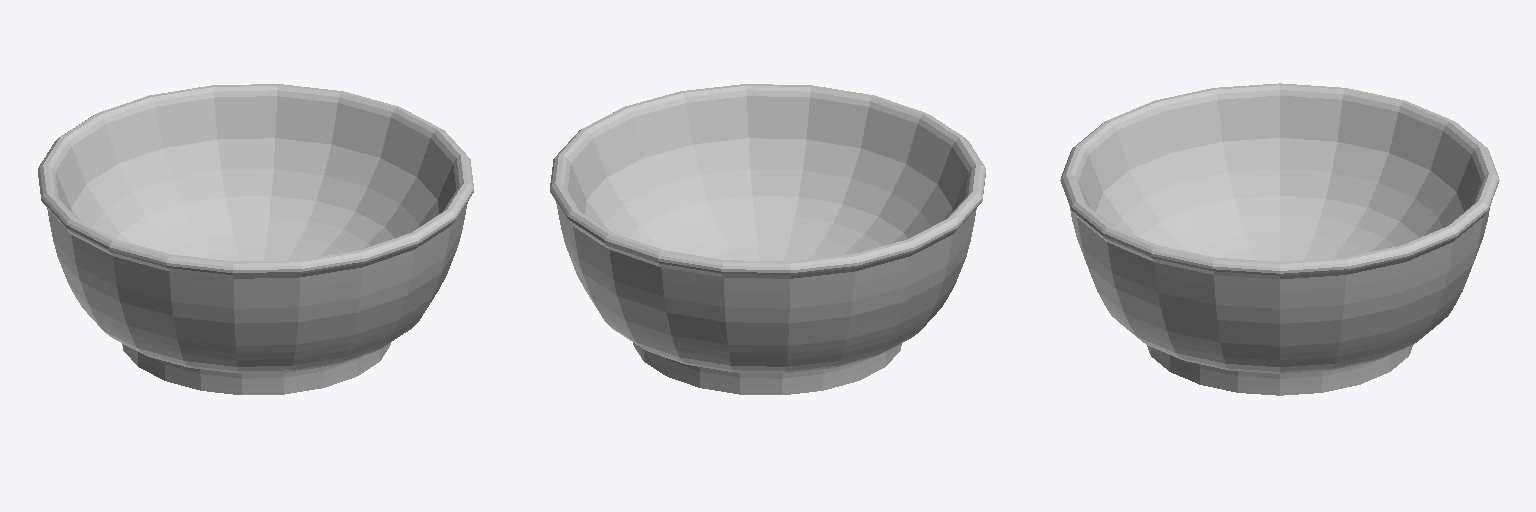
The model's file is bowltest.obj.
3 renders of one model, left to right at view 1: azimuth 30°, elevation 25°; view 2: azimuth 150°, elevation 25°; view 3: azimuth 270°, elevation 25°, orthographic.
Visible parts, largest first — view 1: pCylinder1; view 2: pCylinder1; view 3: pCylinder1.
Part boxes in pixels (left/top/right/bottom): pCylinder1: left=38, top=84, right=473, bottom=394; pCylinder1: left=550, top=84, right=985, bottom=394; pCylinder1: left=1060, top=83, right=1499, bottom=395.
Bounding box in the file's own units: 2.21 × 0.9152 × 2.21.